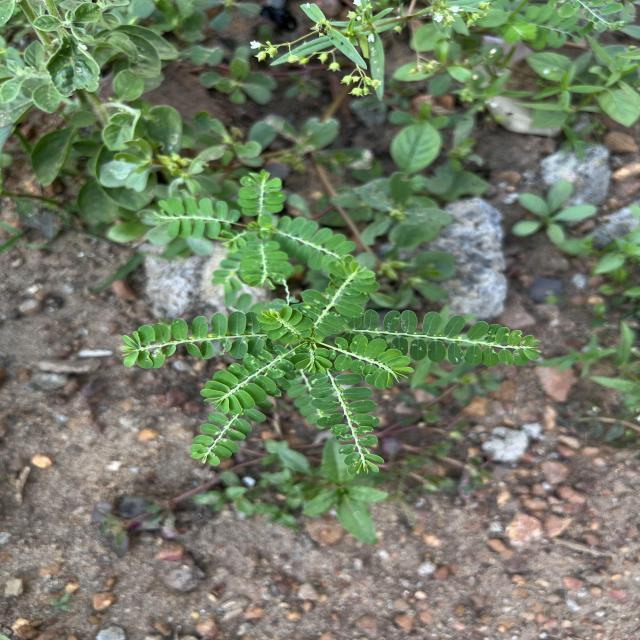Phyllanthus niruri: (351, 308, 543, 368), (120, 310, 264, 370), (309, 369, 386, 476), (297, 260, 381, 338), (198, 350, 292, 416), (331, 334, 416, 392), (186, 412, 255, 467), (254, 304, 314, 343)
